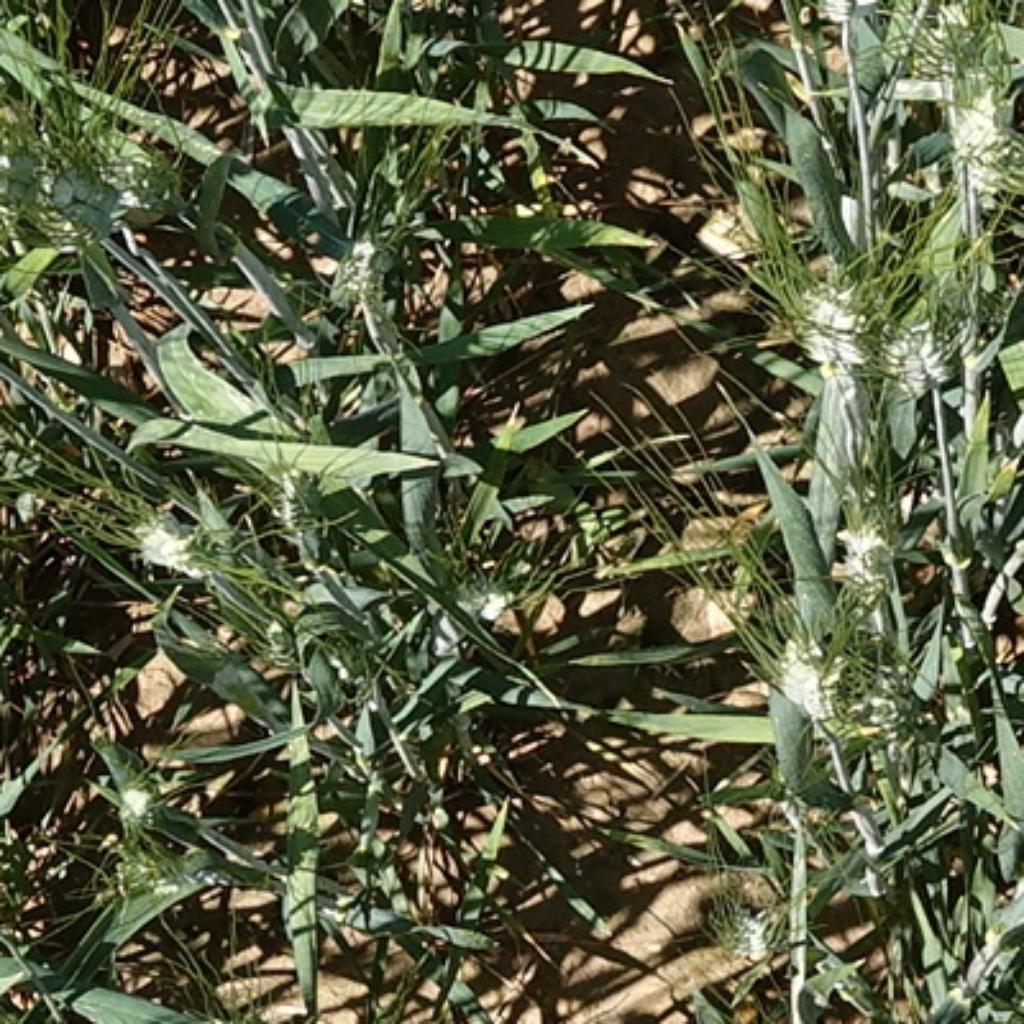0-0: (762, 248, 890, 371), (414, 537, 529, 634), (122, 494, 245, 581), (829, 494, 913, 601), (67, 132, 182, 205), (307, 224, 388, 327), (870, 302, 954, 401), (22, 156, 117, 242), (238, 609, 337, 688), (925, 8, 1012, 97), (266, 450, 350, 542), (945, 99, 1024, 194), (97, 732, 171, 832), (835, 676, 934, 745), (767, 641, 829, 716), (704, 896, 773, 957), (103, 858, 173, 896)
